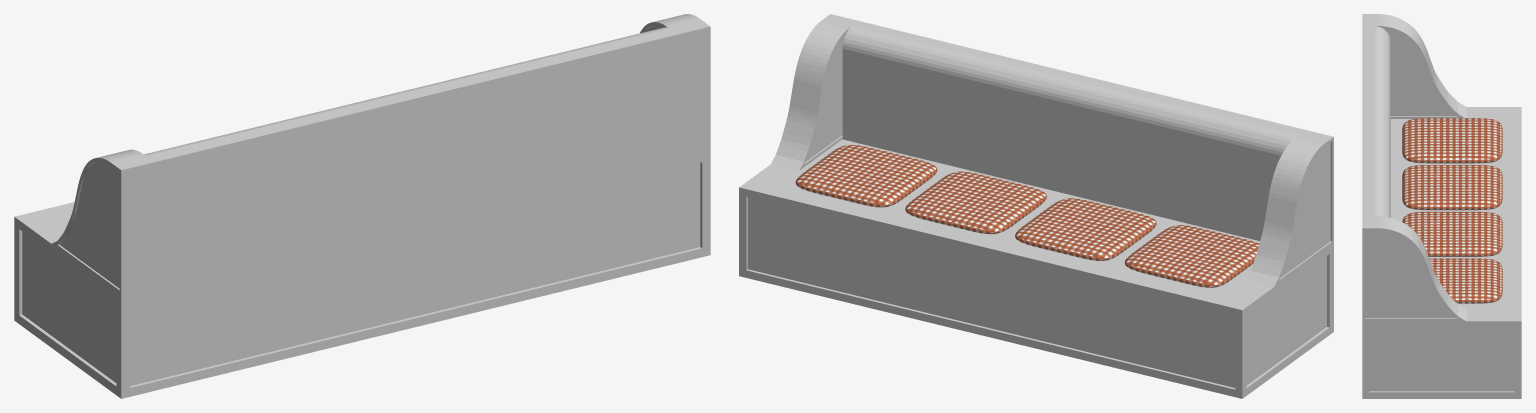
Rendered from eckbank.fbx.
3 renders of one model, left to right at view 1: azimuth 30°, elevation 25°; view 2: azimuth 150°, elevation 25°; view 3: azimuth 270°, elevation 25°, orthographic. The views are drawn at different scales.
Parts seen in each view (by area): view 1: Würfel_1, Würfel_2, Würfel_5, Würfel; view 2: Würfel_1, Würfel_2, Würfel_5, Würfel, Würfel_3_2, Würfel_3_3, Würfel_3_4, Würfel_3; view 3: Würfel_1, Würfel, Würfel_2, Würfel_5, Würfel_3, Würfel_3_2, Würfel_3_3, Würfel_3_4.
Part boxes in pixels (x1=…): Würfel_1: x1=14, y1=151, x2=710, y2=398; Würfel_2: x1=144, y1=27, x2=677, y2=286; Würfel_5: x1=51, y1=149, x2=154, y2=294; Würfel: x1=640, y1=14, x2=710, y2=158; Würfel_1: x1=739, y1=139, x2=1333, y2=398; Würfel_2: x1=842, y1=21, x2=1304, y2=240; Würfel_5: x1=1246, y1=130, x2=1333, y2=286; Würfel: x1=771, y1=14, x2=858, y2=170; Würfel_3_2: x1=1015, y1=198, x2=1156, y2=260; Würfel_3_3: x1=905, y1=171, x2=1046, y2=234; Würfel_3_4: x1=795, y1=145, x2=937, y2=207; Würfel_3: x1=1124, y1=225, x2=1259, y2=287; Würfel_1: x1=1362, y1=107, x2=1521, y2=398; Würfel: x1=1362, y1=216, x2=1466, y2=321; Würfel_2: x1=1362, y1=26, x2=1390, y2=217; Würfel_5: x1=1362, y1=14, x2=1466, y2=118; Würfel_3: x1=1402, y1=118, x2=1502, y2=163; Würfel_3_2: x1=1402, y1=165, x2=1502, y2=210; Würfel_3_3: x1=1402, y1=211, x2=1502, y2=256; Würfel_3_4: x1=1429, y1=258, x2=1502, y2=303.
Bounding box in the file's own units: 890 × 330 × 280.
Materials: 1 (1 with a texture image).
